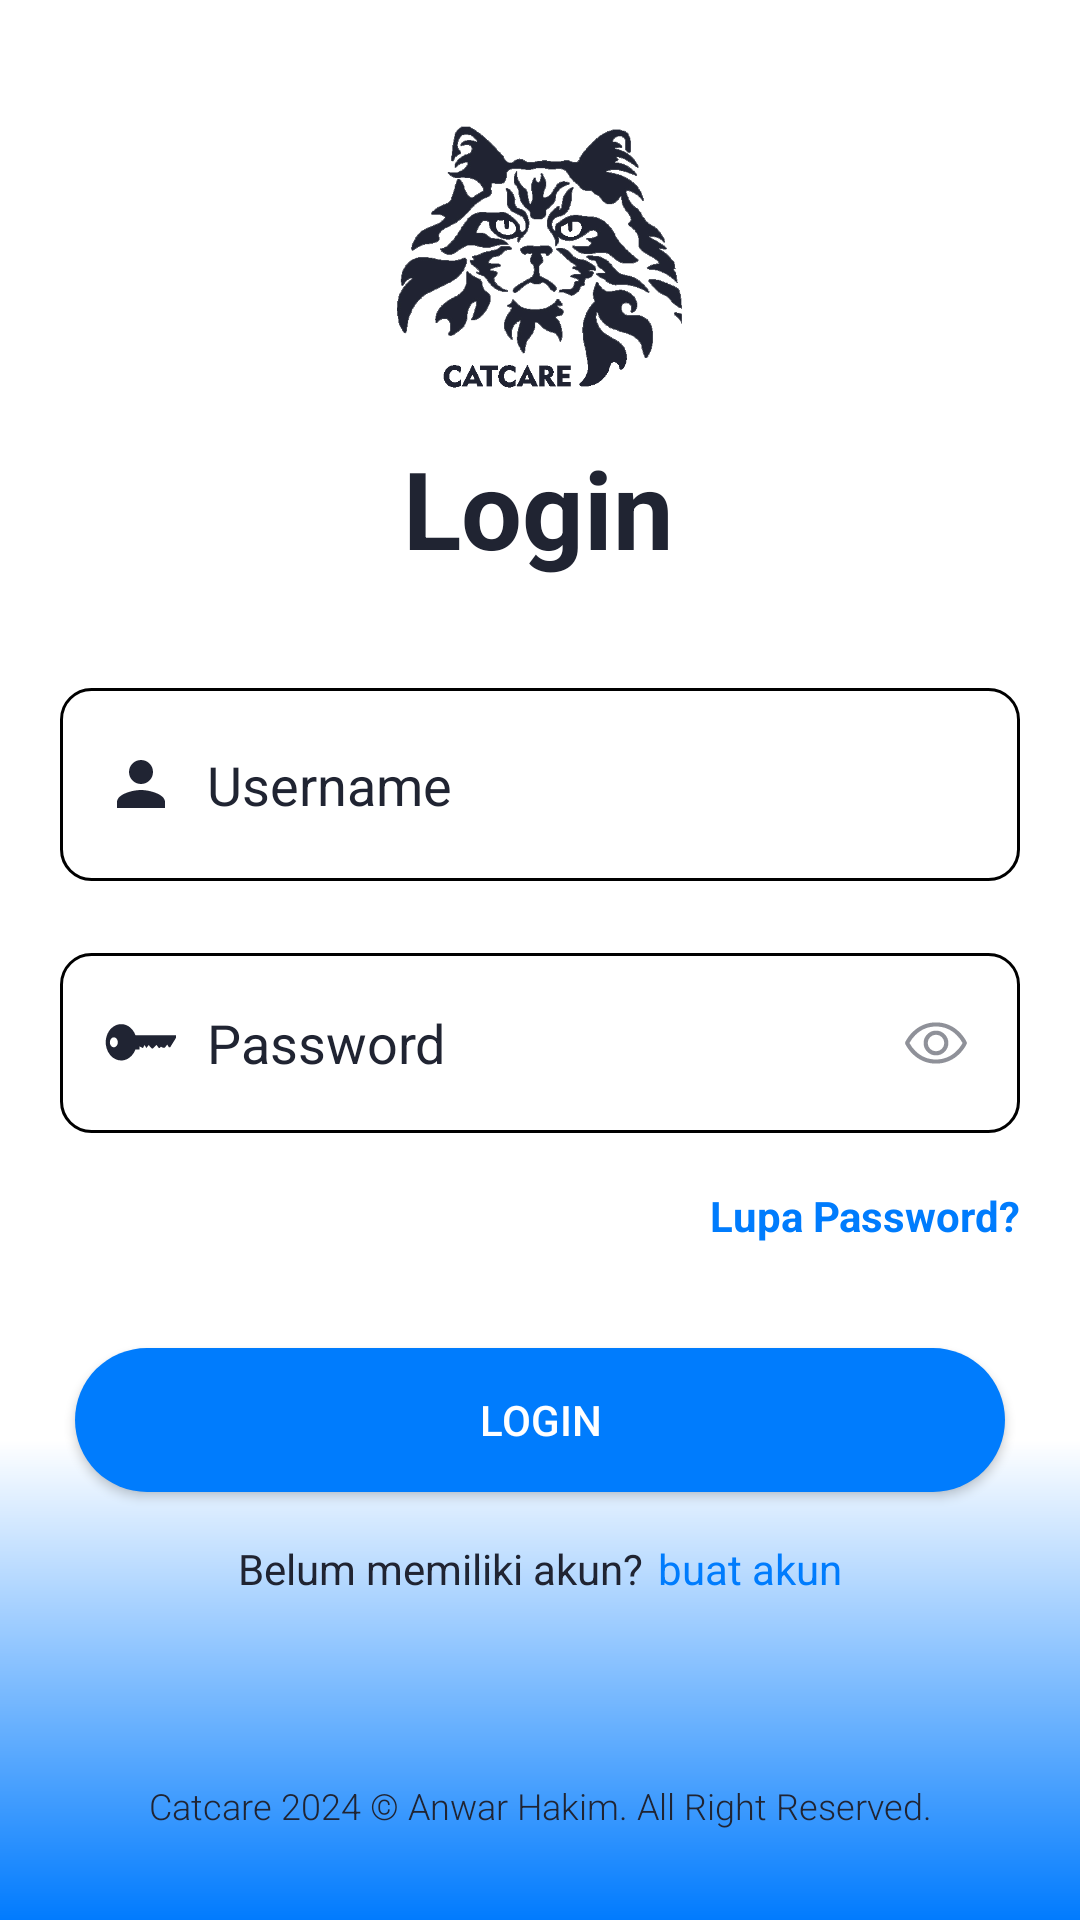

Where icons sit on this 1080x1920 app screen, as (x1, y1, x2, y2):
eye: (905, 1022, 967, 1064)
